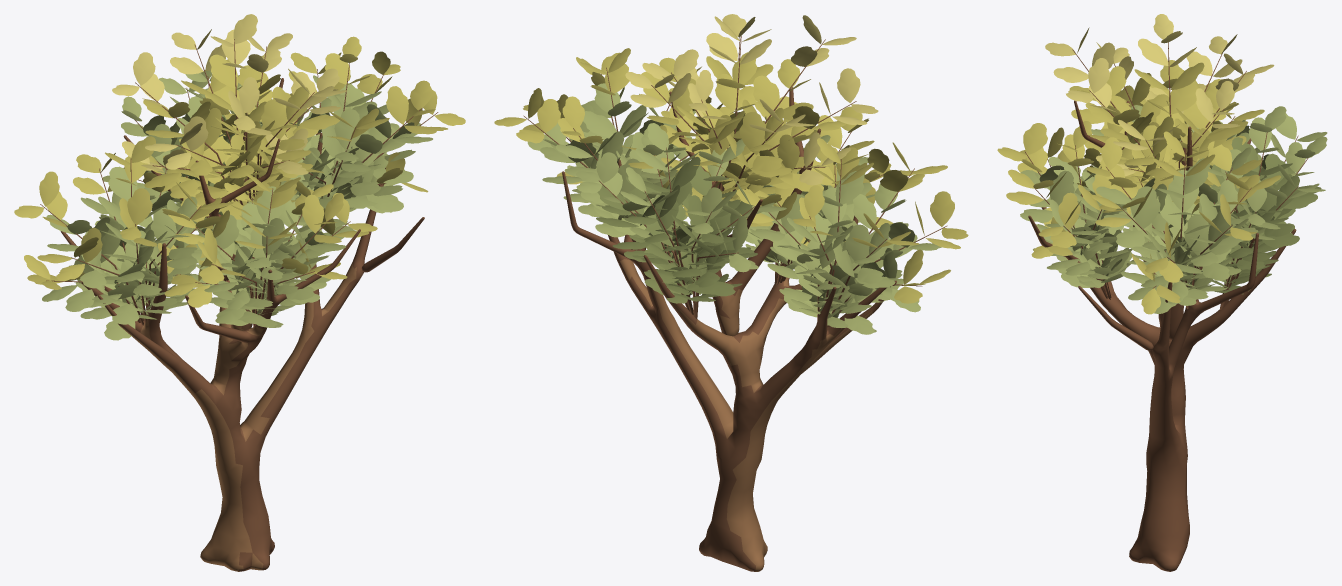
The model's file is tree-a.glb.
The picture shows the model from 3 angles, left to right: view 1: azimuth 30°, elevation 25°; view 2: azimuth 150°, elevation 25°; view 3: azimuth 270°, elevation 25°; orthographic projection.
Visible parts, largest first — view 1: tree-a-foliage, tree-a-trunk, tree-a-twigs; view 2: tree-a-foliage, tree-a-trunk, tree-a-twigs; view 3: tree-a-foliage, tree-a-trunk, tree-a-twigs.
Boxes of the visible parts, x1=… form: tree-a-foliage: x1=14, y1=14, x2=465, y2=340; tree-a-trunk: x1=60, y1=78, x2=424, y2=571; tree-a-twigs: x1=40, y1=39, x2=438, y2=327; tree-a-foliage: x1=494, y1=14, x2=968, y2=334; tree-a-trunk: x1=562, y1=87, x2=896, y2=571; tree-a-twigs: x1=523, y1=31, x2=947, y2=326; tree-a-foliage: x1=997, y1=14, x2=1327, y2=314; tree-a-trunk: x1=1028, y1=100, x2=1296, y2=571; tree-a-twigs: x1=1025, y1=42, x2=1308, y2=309.
Size of the model in its own units: 4.05 by 4.8 by 2.69.
